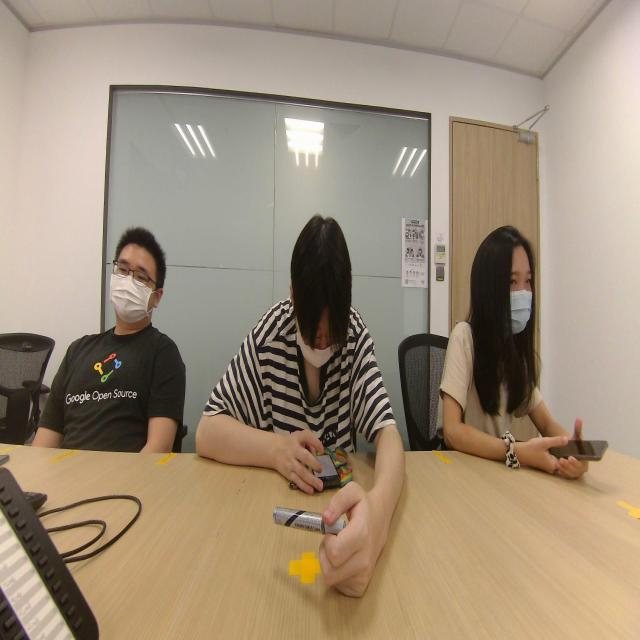obstacle: (204, 205, 410, 456), (56, 219, 188, 456), (457, 205, 556, 448)
